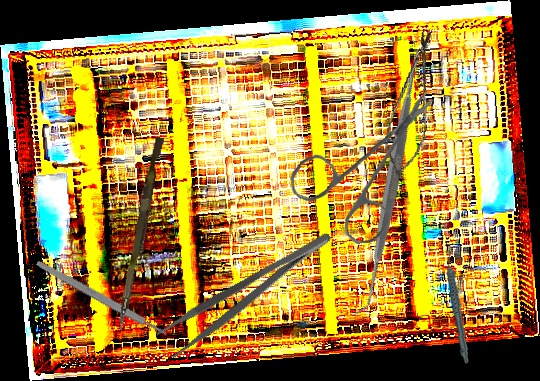Dressing Forceps: (153, 227, 344, 361)
Handpiece: (439, 249, 478, 365)
Iris Scissors: (285, 92, 444, 249)
Micro Scissor: (377, 23, 446, 185)
Pusher: (116, 135, 165, 333)
Scalpel Handle: (35, 258, 168, 339)
Spatula Surgical: (255, 42, 529, 316)
